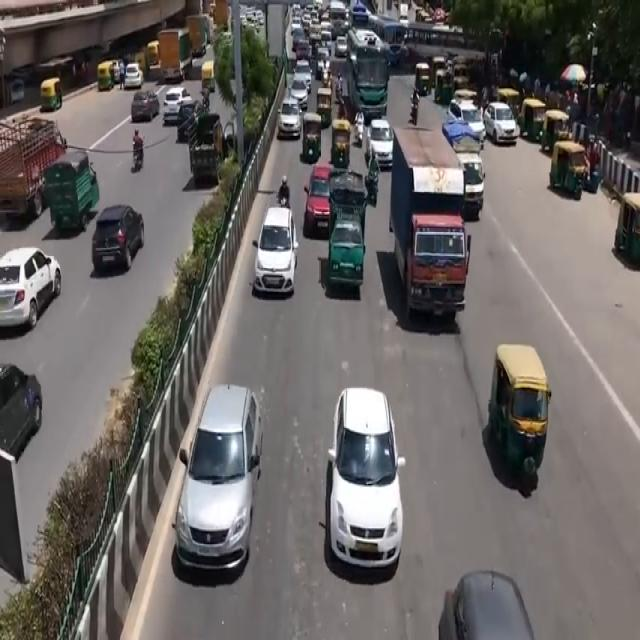BUS: (346, 50, 389, 120)
TRUCK: (389, 125, 471, 322)
